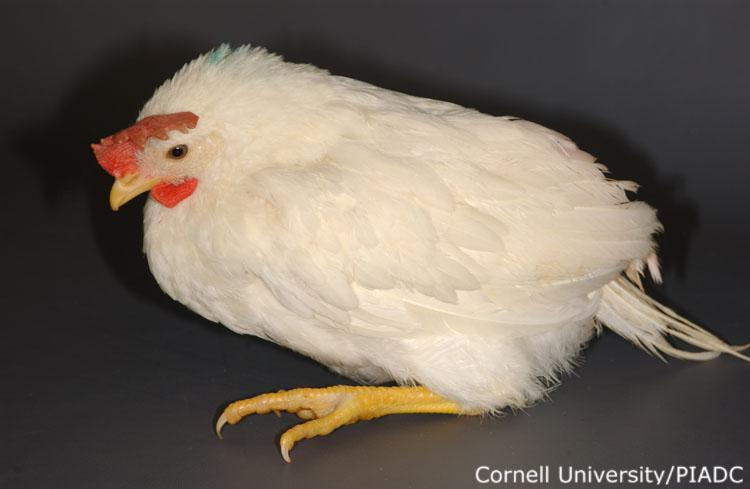AbNormal: (90, 47, 750, 458)
